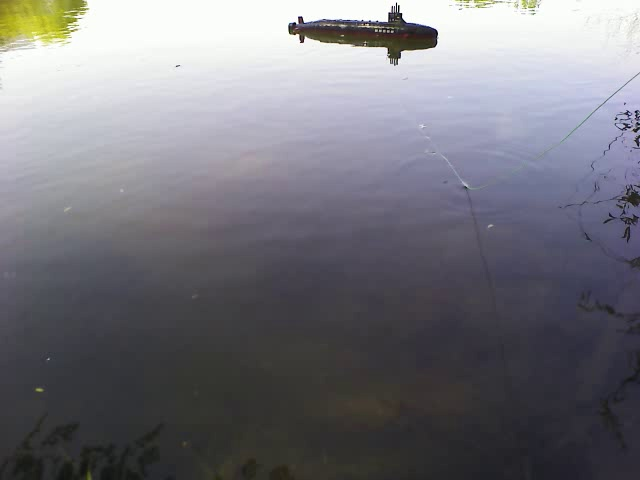submarine: (288, 9, 441, 49)
